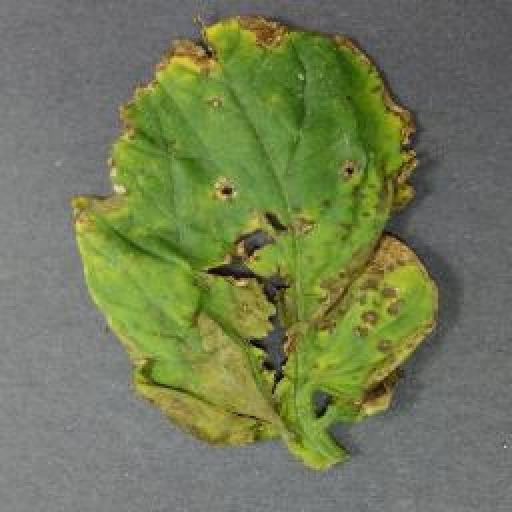Bacterial Spot: (60, 7, 454, 479)
